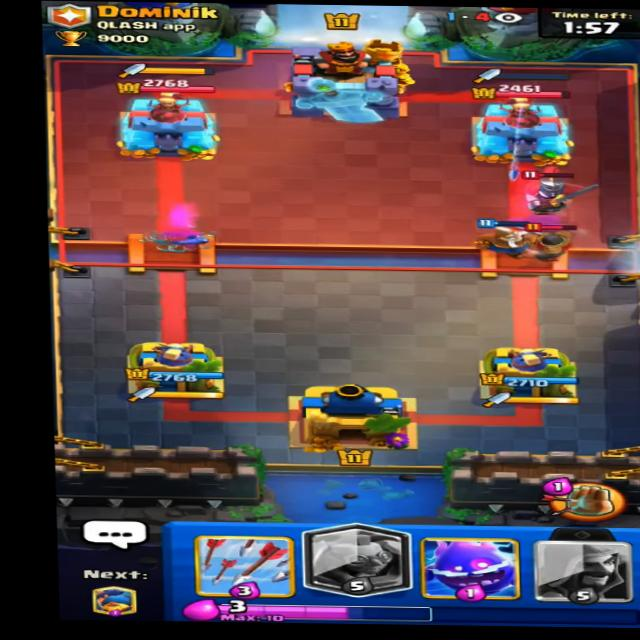guardian: (517, 159, 593, 215)
knight: (519, 221, 589, 264)
